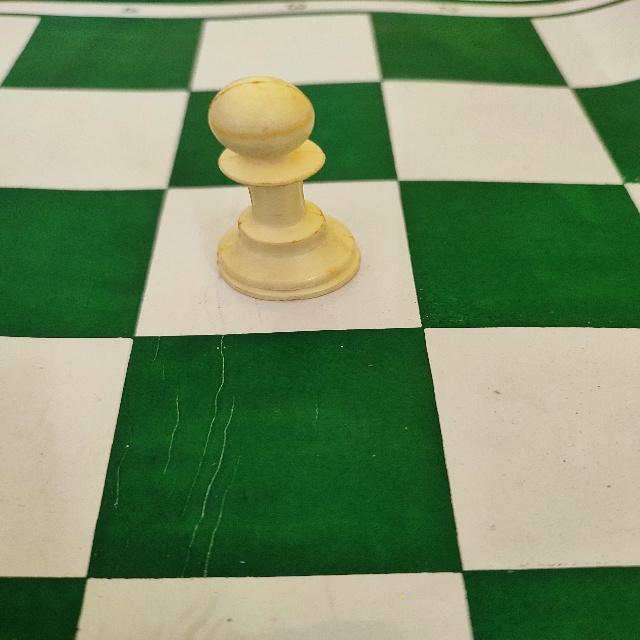Pawn: (202, 72, 376, 306)
